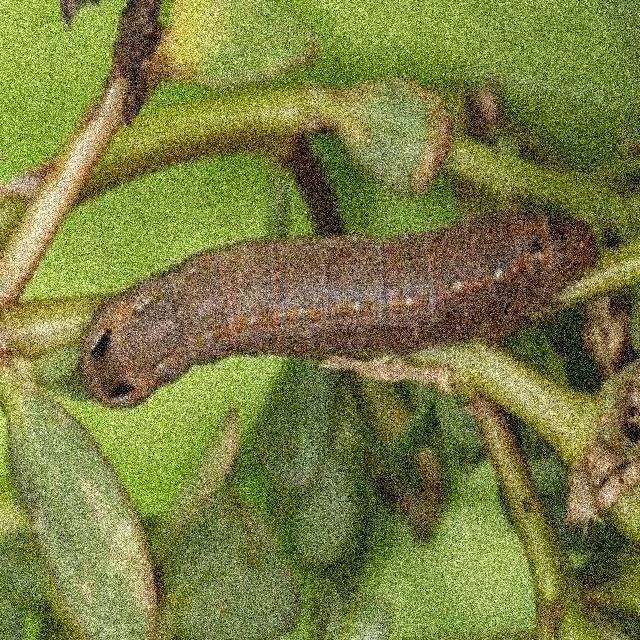Plaga: (77, 210, 605, 419)
